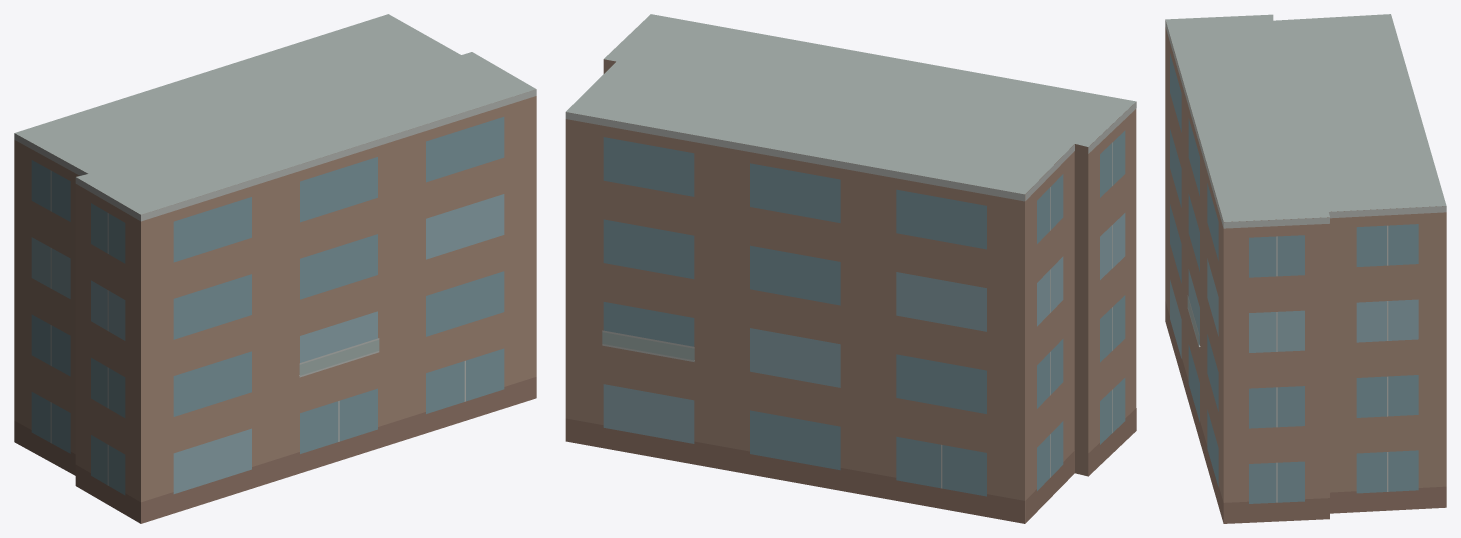
The model's file is survey-upis-32578064.glb.
3 views of the same model, side by side, from view 1: azimuth 30°, elevation 25°; view 2: azimuth 150°, elevation 25°; view 3: azimuth 270°, elevation 25° (orthographic). The views are drawn at different scales.
Parts seen in each view (by area): view 1: survey-upis-32578064.tmp; view 2: survey-upis-32578064.tmp; view 3: survey-upis-32578064.tmp.
Part boxes in pixels (box(x1,y1,x2,y2)): survey-upis-32578064.tmp: box(14, 14, 536, 523); survey-upis-32578064.tmp: box(565, 14, 1136, 523); survey-upis-32578064.tmp: box(1165, 14, 1446, 523).
Size of the model in its own units: 16.87 by 11.4 by 9.64.
